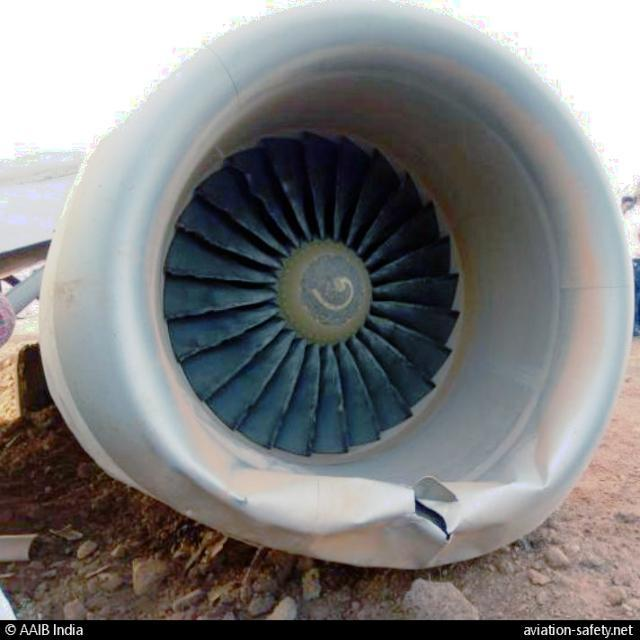crack: (417, 496, 452, 548)
dent: (239, 475, 415, 533), (508, 437, 558, 495)
